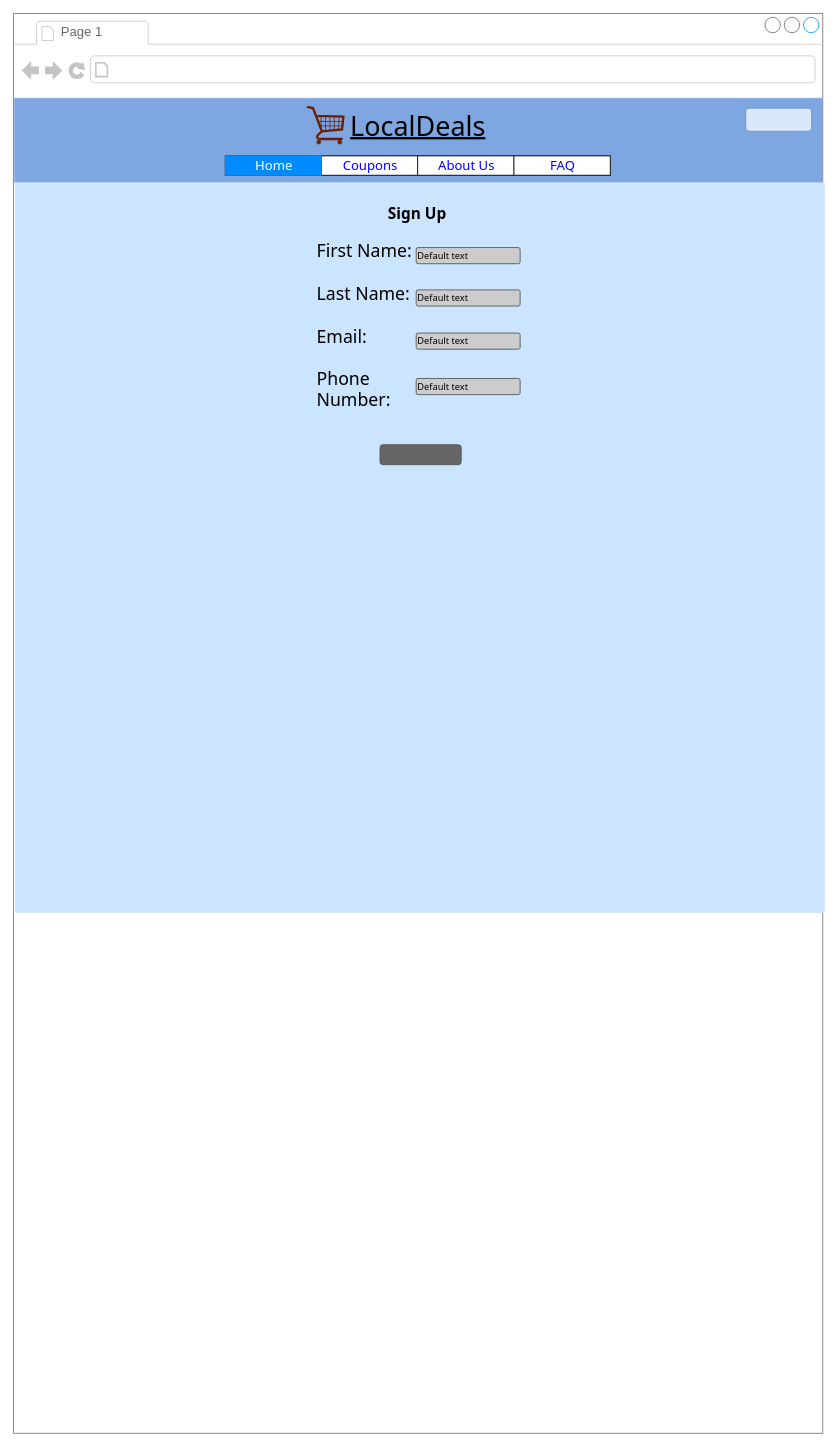
The diagram is 839 pixels wide and 1447 high, and some of its shapes have lost their labels. Each missing label, with the centre of its shape:
https://www.draw.io: point 209,69
Sign Up: point 778,119
Submit: point 420,454
